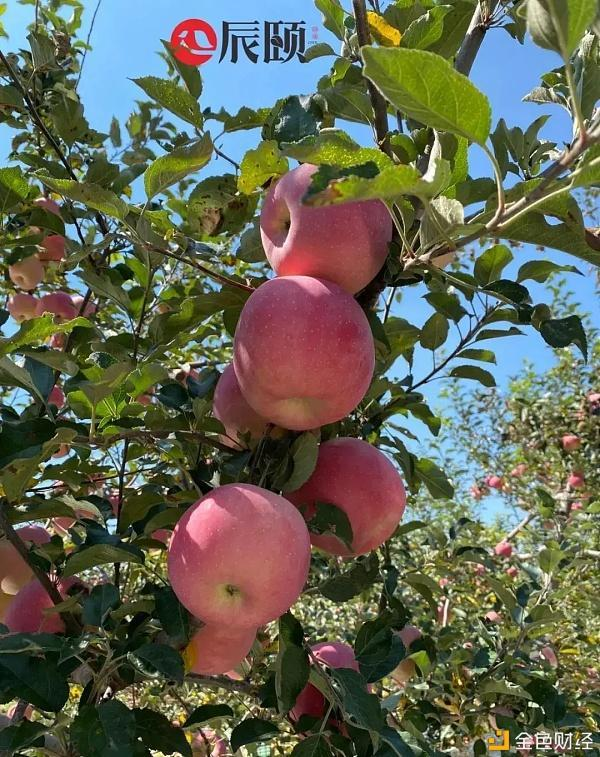apple: (228, 275, 375, 431), (166, 483, 310, 633), (261, 162, 392, 293), (284, 438, 405, 561)
